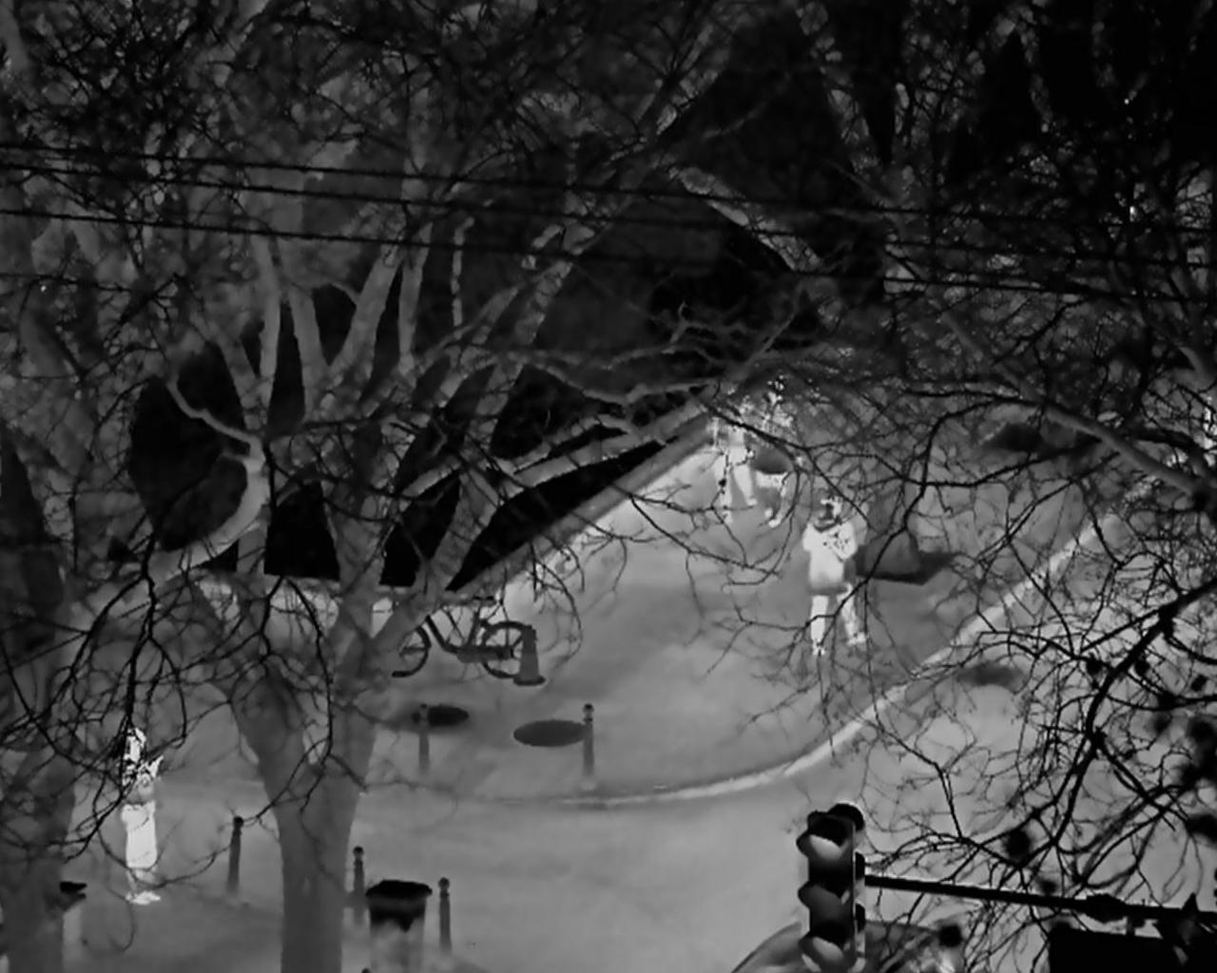person: (798, 492, 865, 659), (118, 726, 164, 905), (752, 378, 794, 530), (711, 384, 753, 523)
